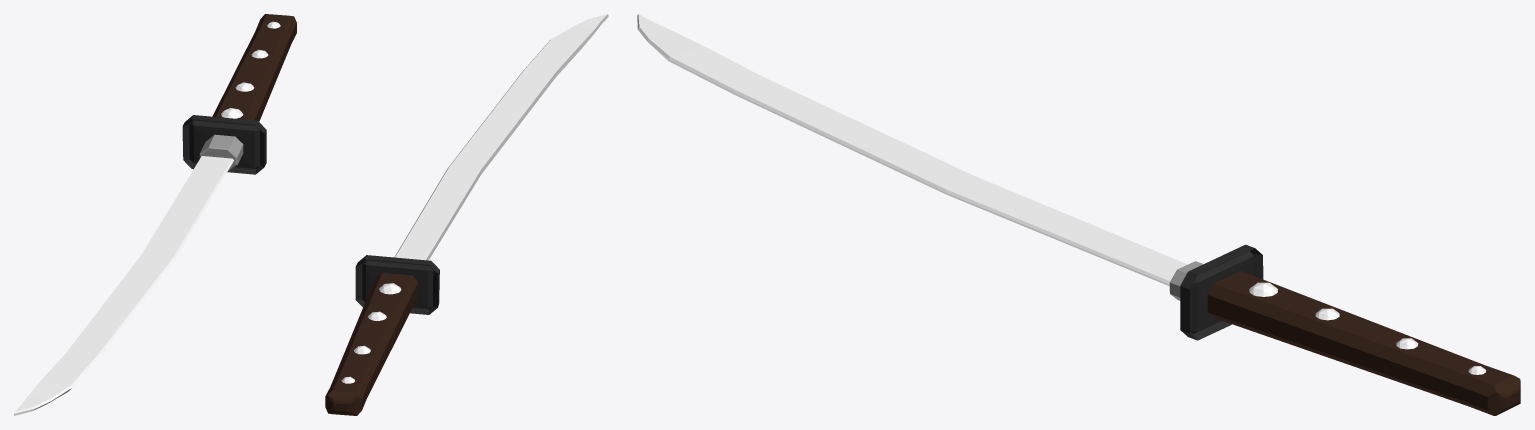
Rendered from Japanese_Sword.fbx.
3 views of the same model, side by side, from view 1: azimuth 30°, elevation 25°; view 2: azimuth 210°, elevation 25°; view 3: azimuth 270°, elevation 25° (orthographic). The views are drawn at different scales.
Visible parts, largest first — view 1: Plane; view 2: Plane; view 3: Plane.
Boxes of the visible parts, x1=… form: Plane: x1=14, y1=14, x2=296, y2=415; Plane: x1=325, y1=14, x2=608, y2=415; Plane: x1=637, y1=14, x2=1520, y2=415.
Bounding box in the file's own units: 994 × 77.96 × 955.
